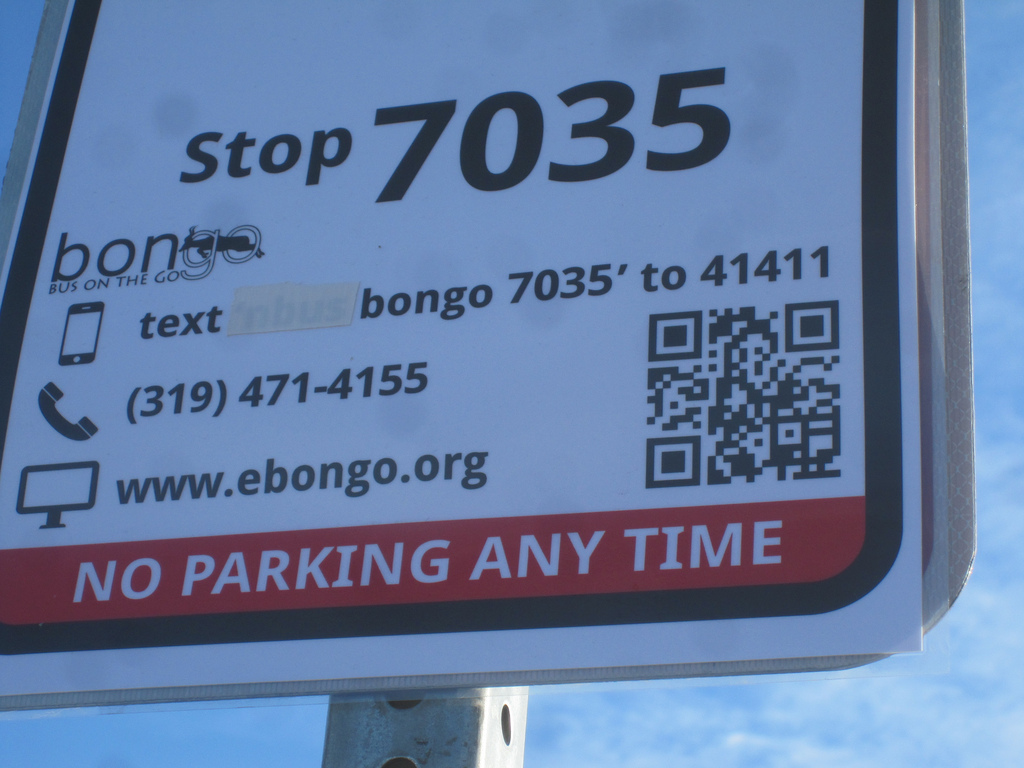QR-CODE: (645, 300, 840, 488)
